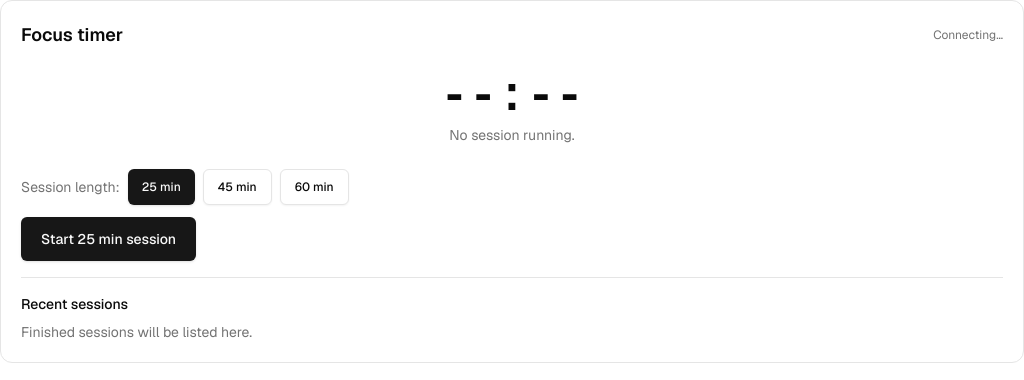
it: FocusTimer › shows the server's message when a control is refused
Click the button "Start 25 min session". click: coordinates (109, 239)
box: [21,217,196,261]
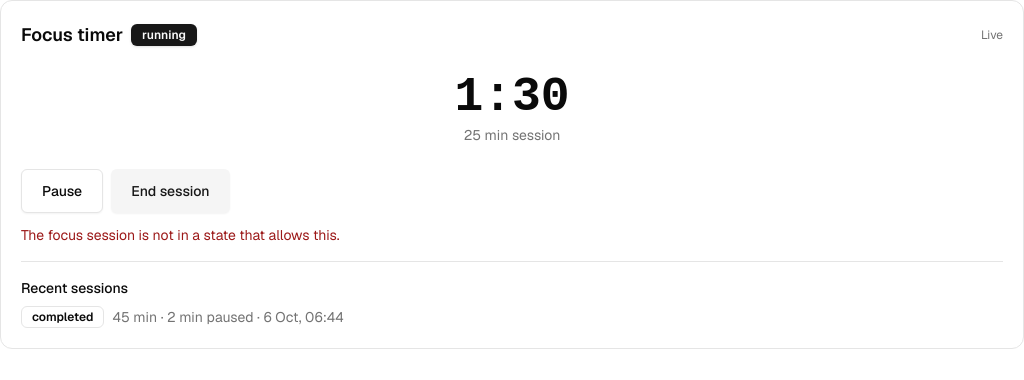
Expected: the message "The focus session is not in a state that allows this." is shown, [21,226,340,244]
